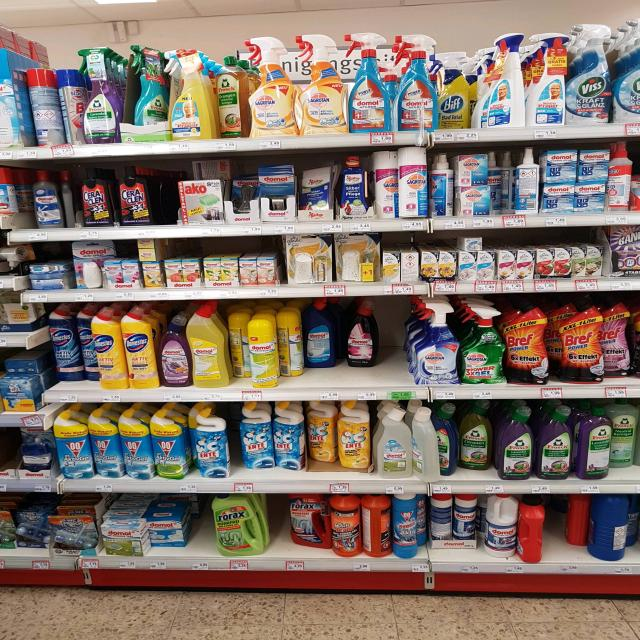empty: (376, 295, 407, 390), (192, 502, 217, 558)
